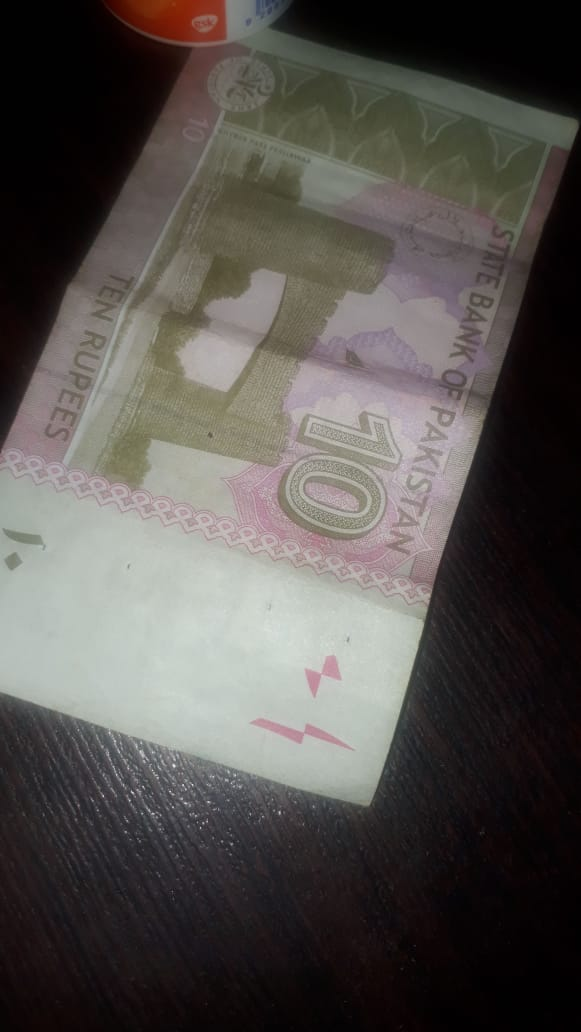10 rupee: (5, 42, 576, 812)
